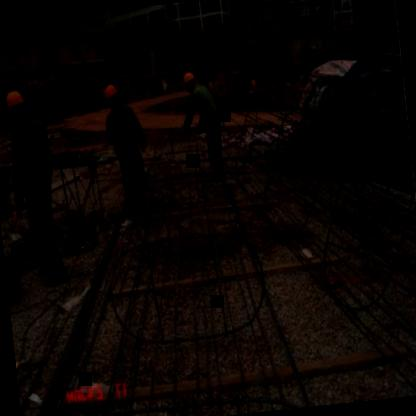helmet: (2, 84, 30, 124), (102, 81, 122, 110), (180, 69, 198, 95)
